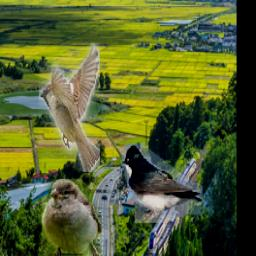Sparrow: (40, 44, 101, 173), (42, 179, 102, 256)
Swallow: (123, 145, 204, 224)
